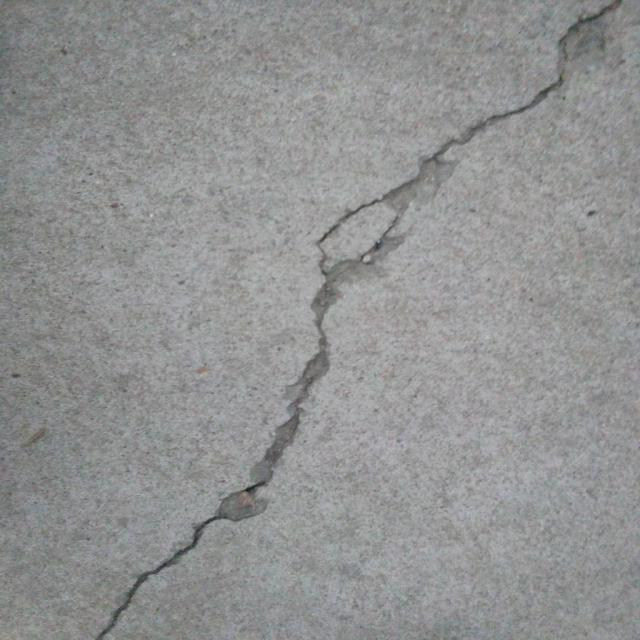cracks: (78, 0, 636, 640)
